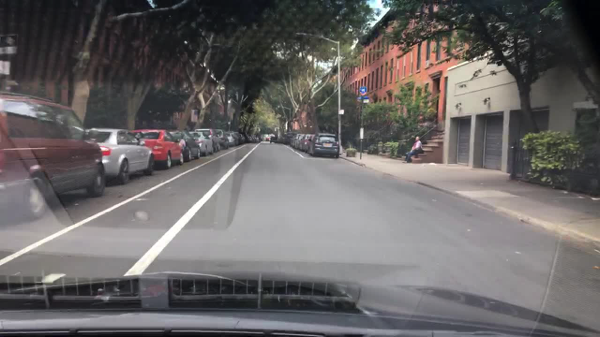car: (0, 93, 106, 220), (84, 128, 155, 185), (130, 128, 185, 170), (169, 130, 201, 162), (310, 133, 340, 158), (188, 131, 216, 156), (195, 129, 222, 152), (214, 130, 229, 148), (283, 131, 298, 145), (306, 134, 316, 154), (225, 132, 237, 147), (228, 131, 240, 145), (302, 134, 310, 151), (294, 133, 302, 149), (234, 131, 243, 145), (297, 134, 304, 150), (240, 132, 249, 143), (289, 135, 296, 147), (239, 133, 246, 144), (270, 136, 277, 143), (252, 135, 258, 143), (277, 138, 284, 144), (248, 135, 253, 143), (257, 136, 264, 141), (256, 136, 261, 143), (265, 137, 271, 142)
person: (402, 136, 425, 163)
traffic sign: (0, 35, 17, 55), (1, 61, 10, 75), (357, 96, 369, 104), (191, 110, 198, 122), (359, 127, 365, 140), (359, 87, 367, 96), (338, 110, 346, 117)
